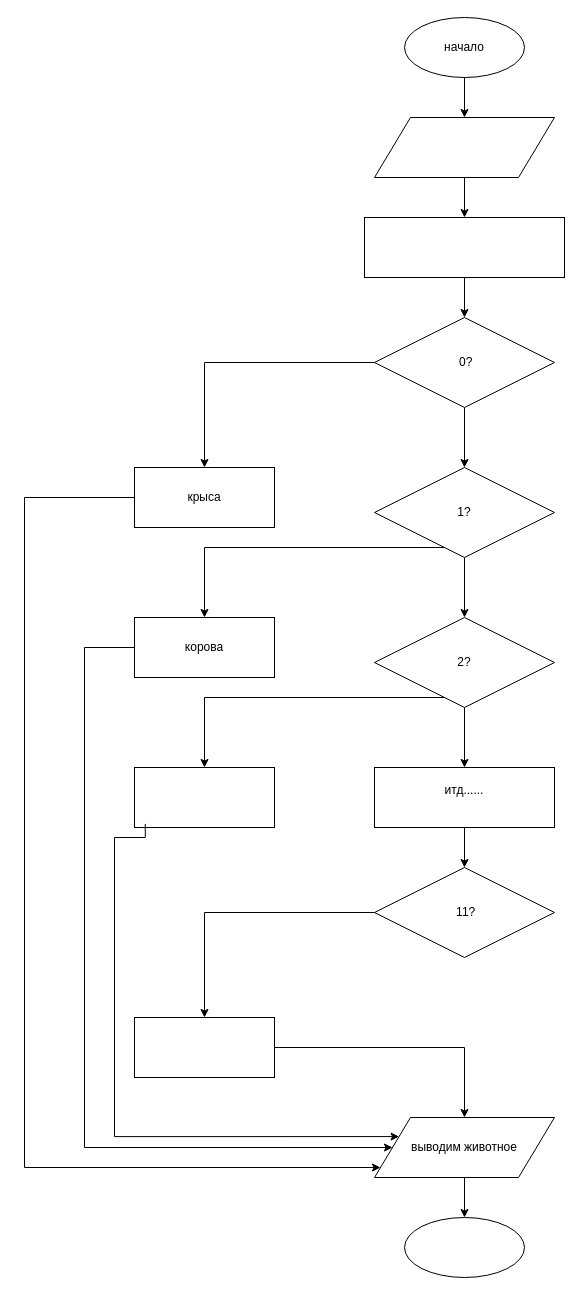
The diagram is 582 pixels wide and 1295 high, and some of its shapes have lost their labels. The shapes that lost their labels are listed below. From the top down, each one's box as (x1, y1, x2, y2) in pixels, then its label:
(374, 116, 554, 178): ввод года
(364, 216, 564, 278): (год - 1996) % 12
(134, 766, 274, 828): тигр
(134, 1016, 274, 1078): свинья
(404, 1216, 524, 1278): конец
